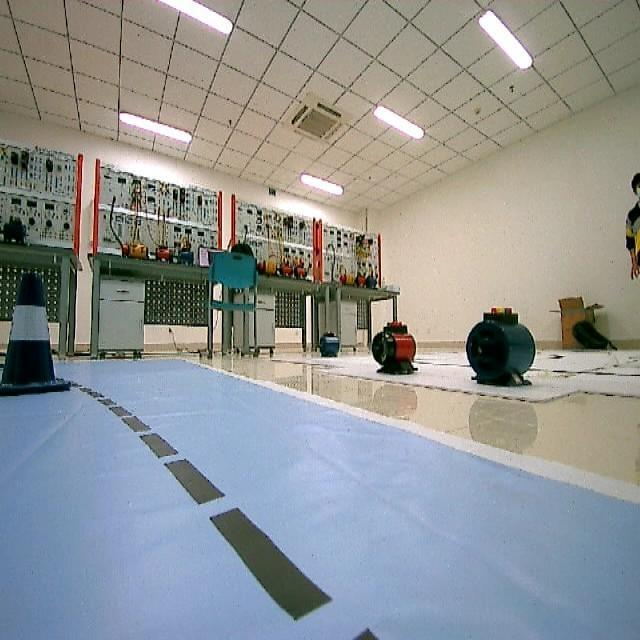obstacle: (0, 278, 84, 410)
